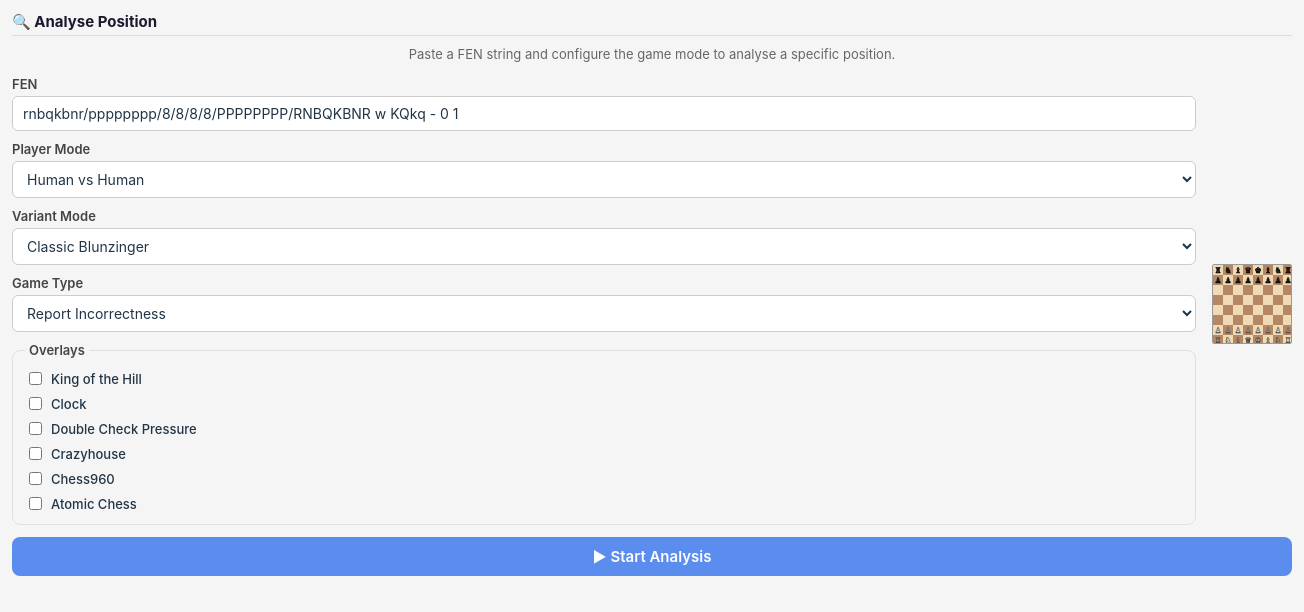
AnalysePositionForm › shows game-over error for checkmate position
# Scholar's mate final position
Replace the text in the field named "FEN string for analysis" with "rnb1kbnr/pppp1ppp/8/4p3/6Pq/5P2/PPPPP2P/RNBQKBNR w KQkq - 1 3" at [604, 114], box [12,96,1196,131]
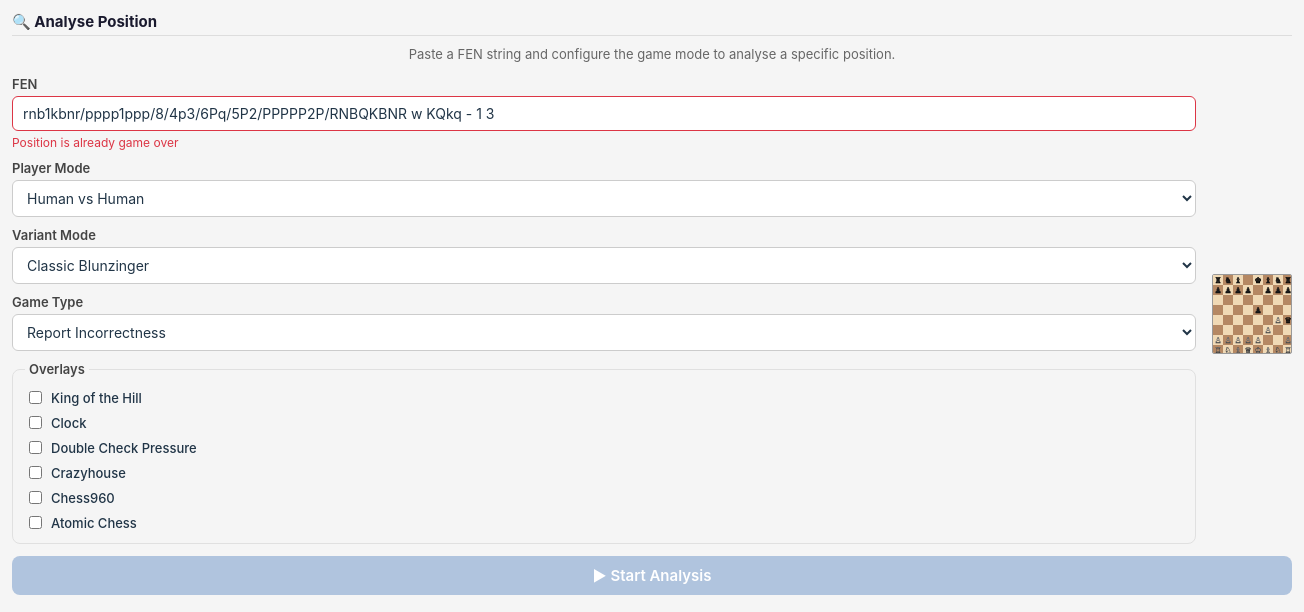
Expected: the text "Position is already game over" is shown, [12,135,178,150]
Expected: the button "▶ Start Analysis" is disabled, [12,556,1292,595]
